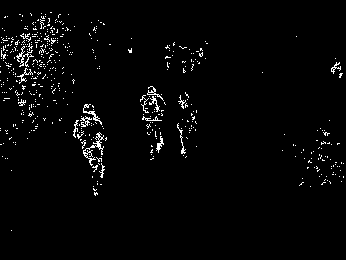person: (73, 102, 108, 196), (140, 85, 167, 165), (178, 91, 198, 162)
